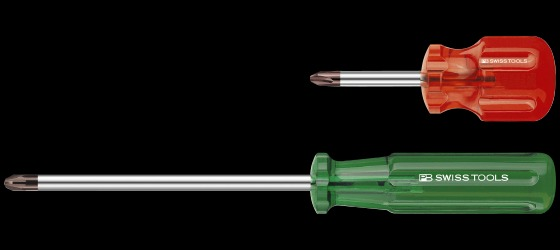screwdriver: (2, 146, 557, 216), (306, 26, 557, 126)
